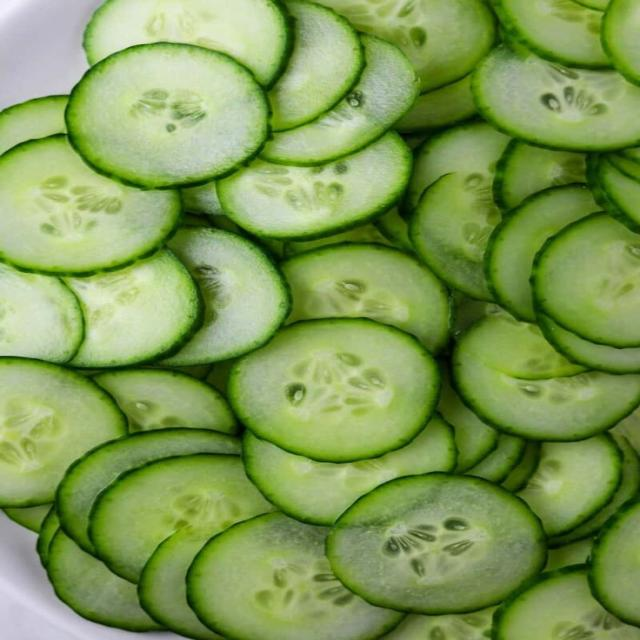cucumber sliced: (327, 474, 546, 614), (229, 319, 439, 462), (67, 43, 268, 188), (187, 514, 403, 639), (0, 136, 181, 275), (90, 454, 273, 582), (243, 416, 456, 525), (56, 429, 239, 552), (217, 133, 412, 239), (261, 35, 418, 165), (453, 334, 639, 441), (281, 243, 451, 353), (0, 358, 126, 506), (407, 123, 508, 299), (473, 45, 639, 151), (84, 0, 291, 85), (164, 227, 290, 366), (66, 249, 201, 368), (322, 0, 495, 92), (485, 185, 599, 321), (533, 214, 639, 347), (269, 0, 364, 131), (47, 531, 162, 631), (410, 173, 499, 300), (494, 566, 639, 639), (519, 435, 622, 537), (550, 434, 639, 546), (139, 527, 223, 639), (94, 369, 238, 433), (406, 122, 509, 211), (0, 264, 83, 363), (493, 0, 611, 68), (465, 314, 585, 380), (494, 140, 586, 209), (590, 501, 639, 626), (537, 313, 639, 373), (438, 376, 499, 473), (396, 75, 475, 133), (284, 221, 393, 257), (0, 96, 67, 154), (382, 607, 494, 639), (594, 155, 639, 232), (602, 0, 639, 84), (466, 434, 526, 484), (453, 293, 507, 340), (587, 155, 622, 219), (502, 442, 540, 492), (180, 181, 225, 219), (375, 208, 413, 253), (546, 538, 593, 571), (36, 505, 59, 568), (4, 505, 51, 532), (597, 151, 639, 181), (206, 359, 237, 397), (614, 410, 639, 455), (167, 364, 213, 380), (573, 0, 611, 11), (403, 133, 427, 149)
